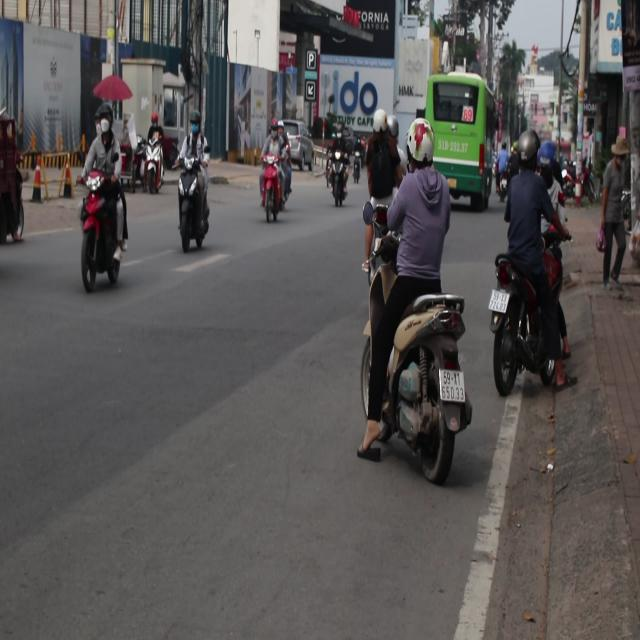bus: (423, 73, 503, 210)
car: (282, 119, 317, 169)
motorbike: (354, 249, 476, 448), (486, 257, 571, 395), (78, 169, 139, 285), (174, 162, 216, 267), (356, 194, 395, 288), (260, 156, 291, 230), (139, 134, 166, 195), (324, 153, 346, 208)
